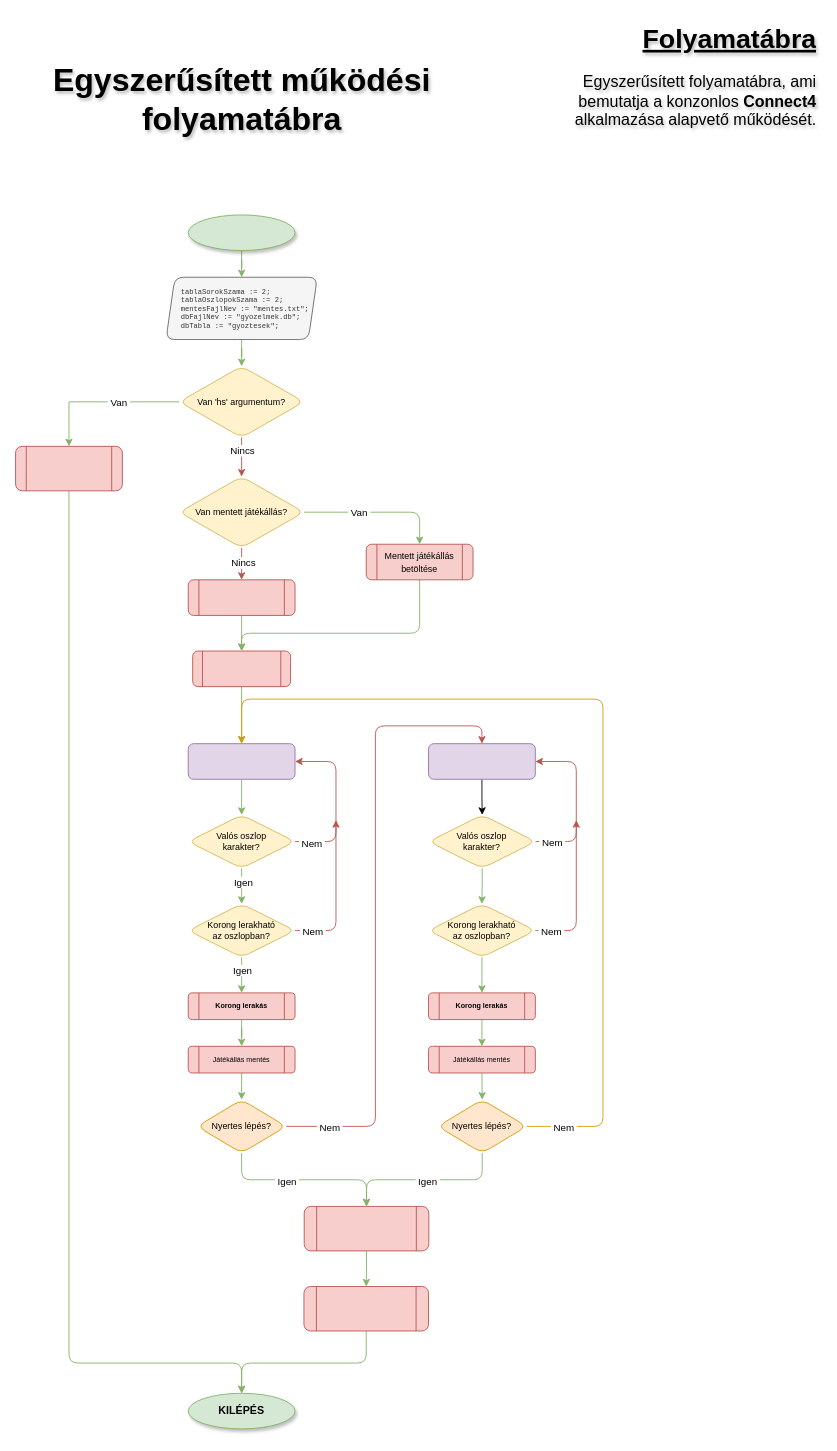
This 837x1451 diagram has some shape labels left out. The shapes that lost their labels are listed below. From the top down, each one's centre as x and y in pixels, then its label:
At (242,233): "START".
At (68,468): "HighScore (győzelmek száma) megjelenítése".
At (241,597): "Új játék indítása".
At (241,668): "Játéktér generálás".
At (241,761): "Ember játékos lép".
At (481,761): "Gépi játékos lép".
At (366,1228): "Győzelem számának növelése".
At (366,1308): "Győztes kihirdetése".
